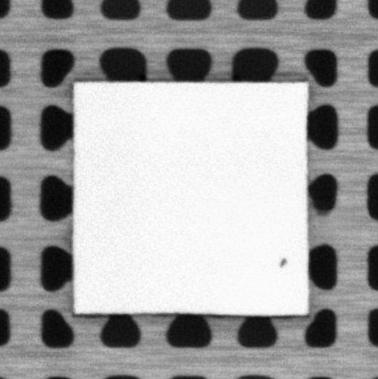DIE_INK: (279, 257, 289, 268)
